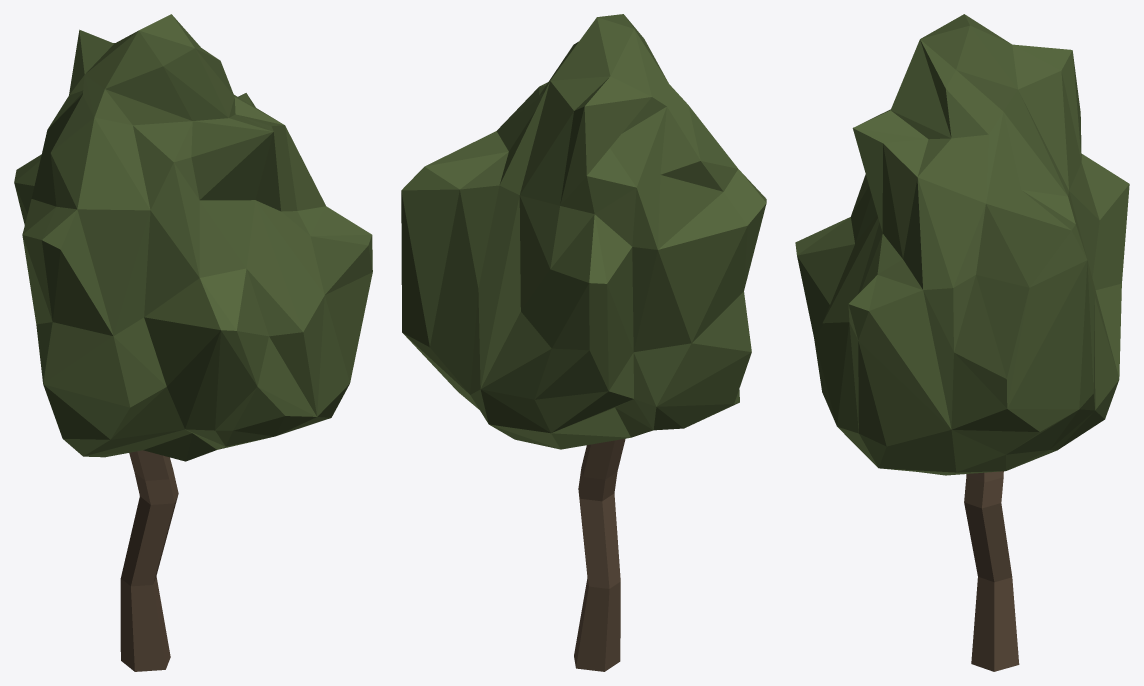
File: Tree_19.gltf
3 renders of one model, left to right at view 1: azimuth 30°, elevation 25°; view 2: azimuth 150°, elevation 25°; view 3: azimuth 270°, elevation 25°, orthographic. The views are drawn at different scales.
Visible parts, largest first — view 1: Tree_19; view 2: Tree_19; view 3: Tree_19.
Part boxes in pixels (<box>): Tree_19: <box>14,14,372,671</box>; Tree_19: <box>401,14,766,671</box>; Tree_19: <box>795,14,1129,671</box>.
Bounding box in the file's own units: 0.5007 × 0.9701 × 0.4586.
1 material, 1 textured.
